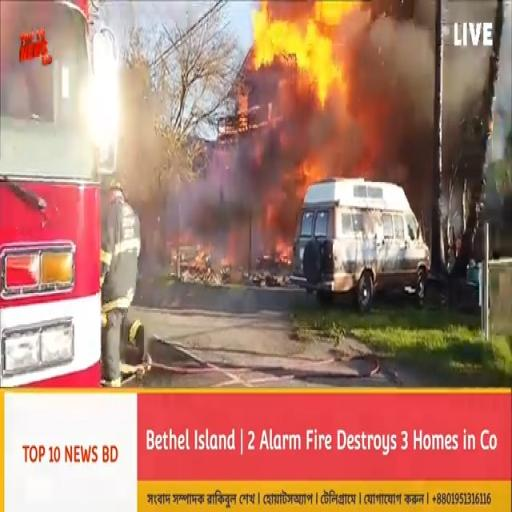fire: (250, 0, 337, 98)
smoke: (362, 4, 436, 164), (201, 153, 280, 272)
